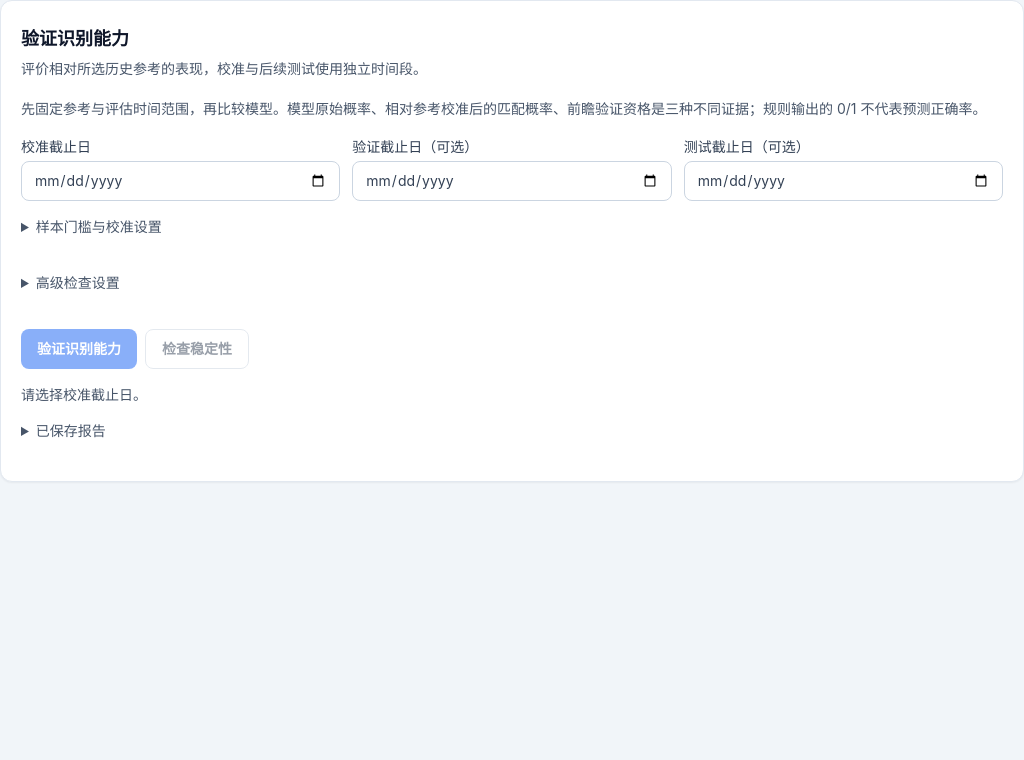
Test case: 验证识别能力 › 精确请求、确认仅发送 canonical request/hash；显示不充分与非部署状态
This screenshot has width=1024, height=760.
Type "2020-12-31" into the date field labelled "校准截止日". click: (181, 181)
box: [21,161,340,201]
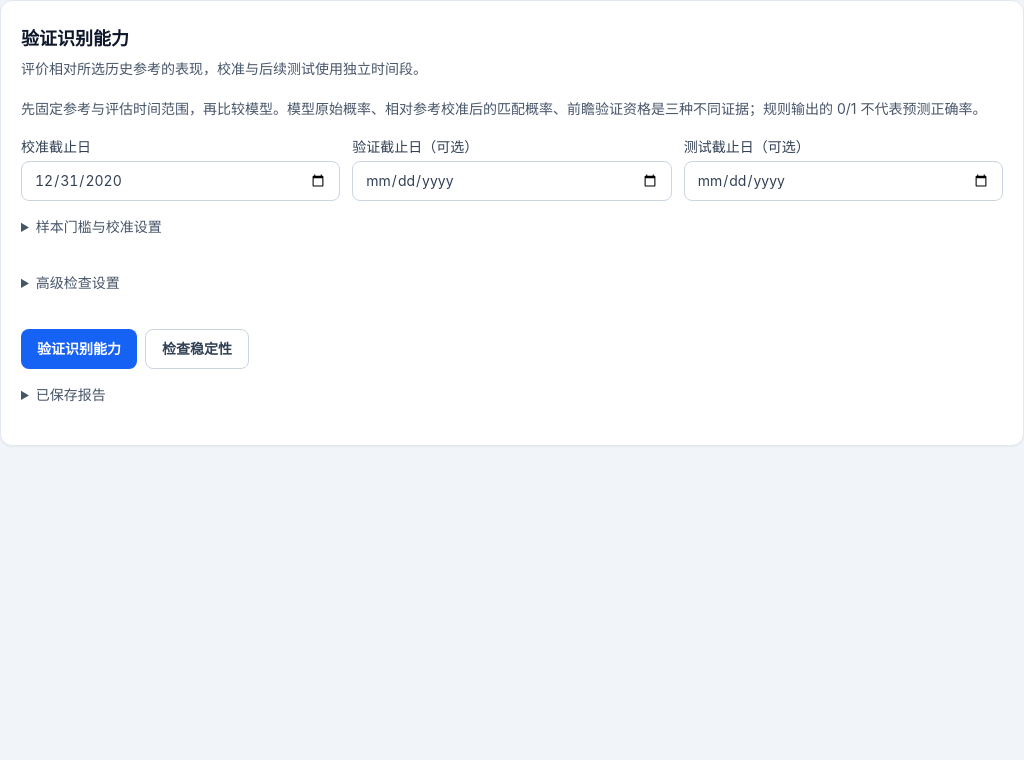
Click the button "验证识别能力". click: click(79, 349)
box: [21,329,137,369]
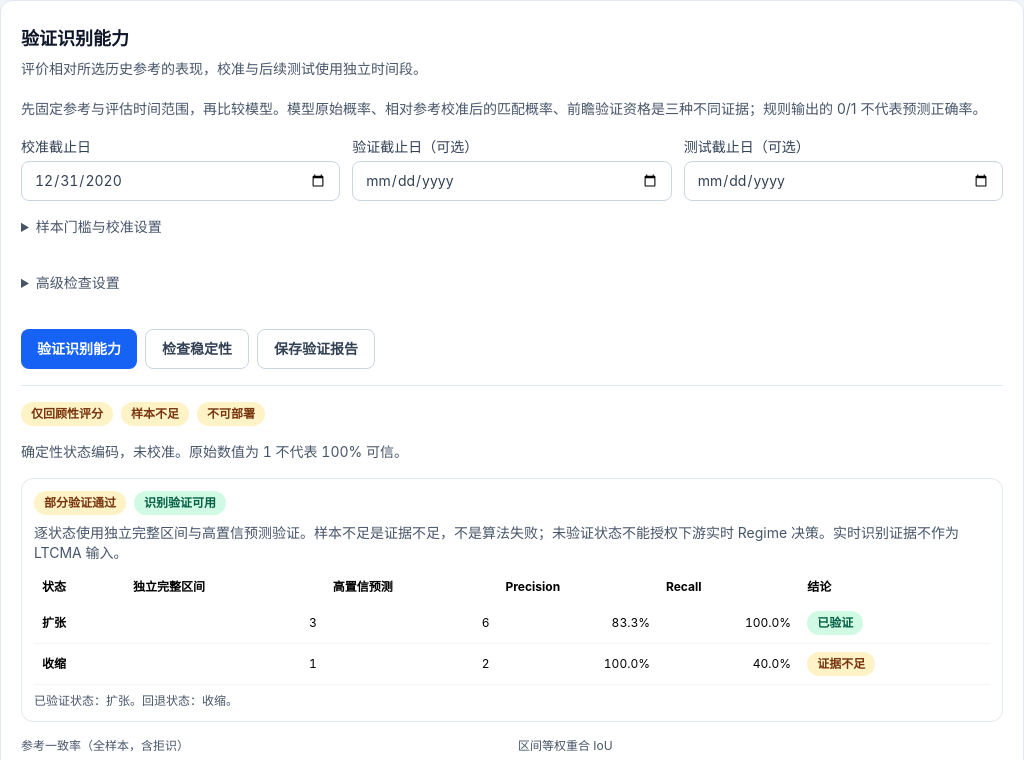
expect the text "仅回顾性评分" is shown: met, box [21,402,113,426]
expect the text "样本不足" is shown: met, box [121,402,189,426]
expect the text "不可部署" is shown: met, box [197,402,265,426]
Click the button "保存验证报告". click: click(316, 349)
box: [257,329,375,369]
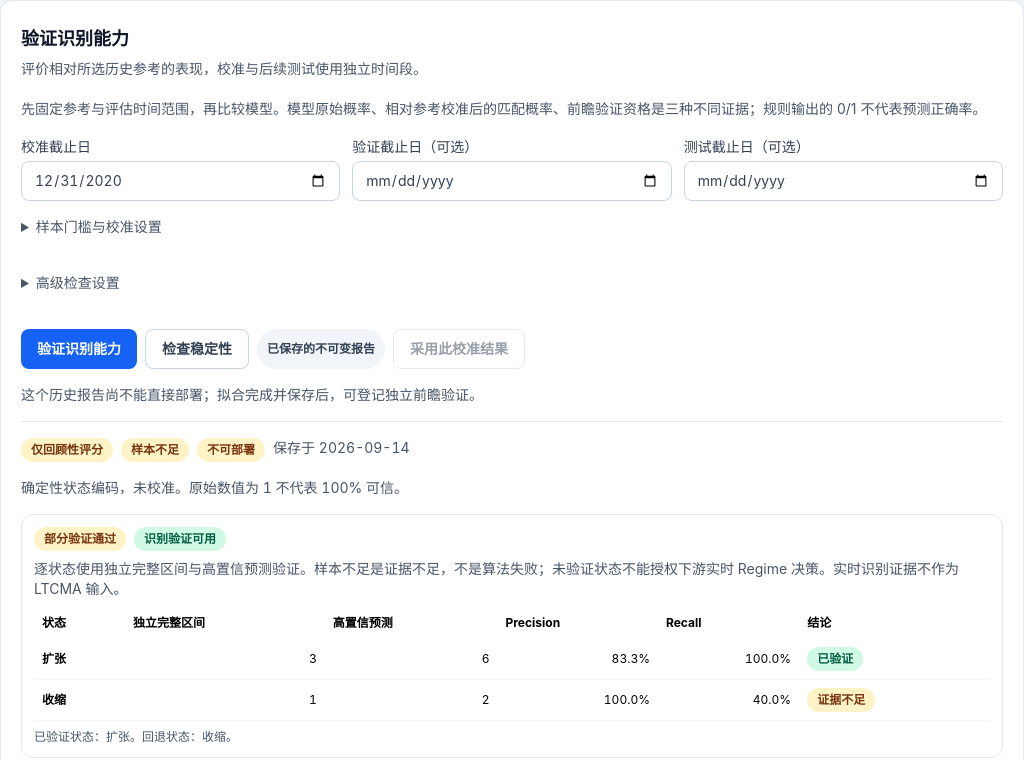
expect the text "已保存的不可变报告" is shown: met, box [257,329,385,369]
expect the button "采用此校准结果" is disabled: met, box [393,329,525,369]
